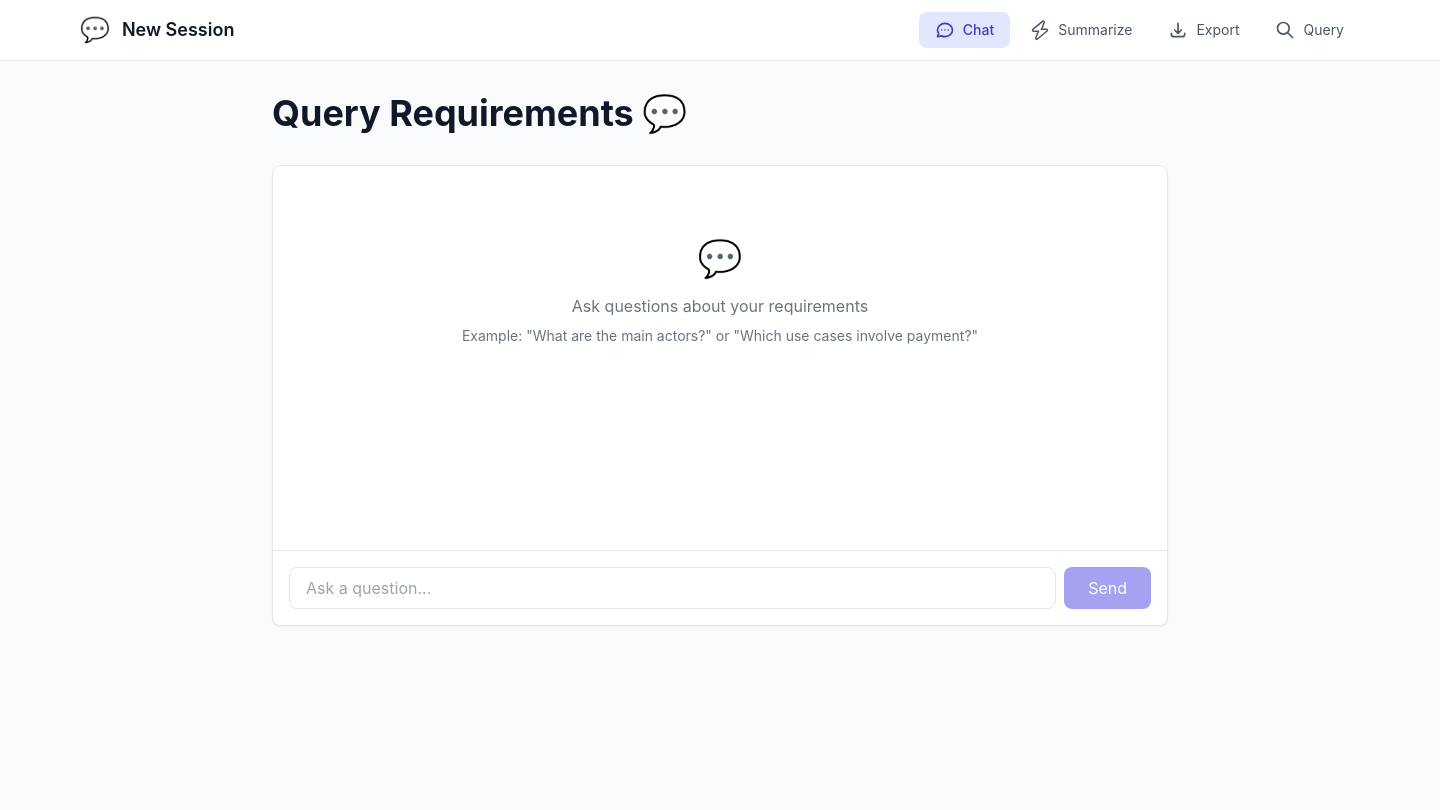
Test: Query Component › Conversation Display › displays user and assistant messages
In the field with placeholder "Ask a question...": x=673, y=588 left=289, top=567, right=1056, bottom=609, type "Test question"
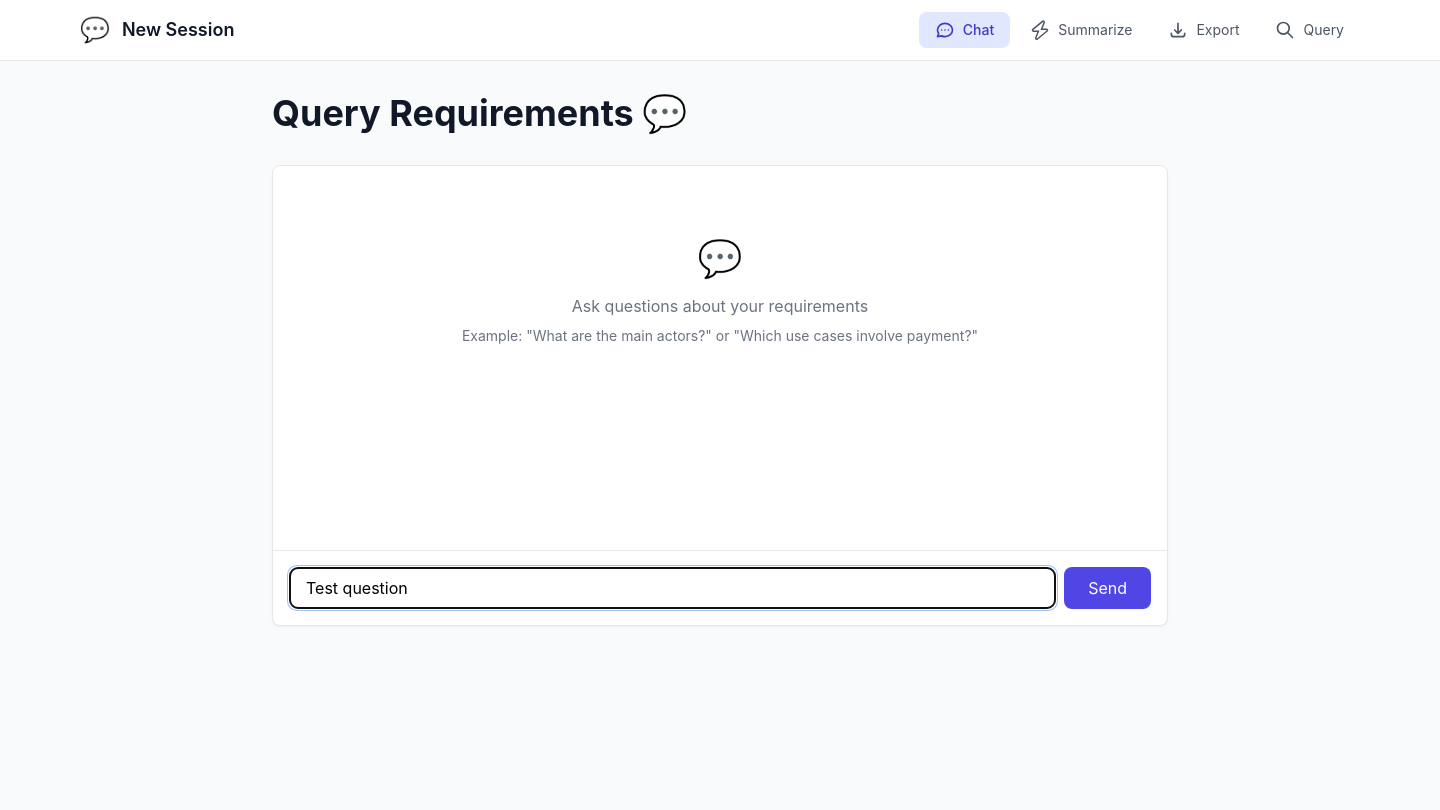
Click the button "Send": x=1108, y=588 left=1064, top=567, right=1151, bottom=609
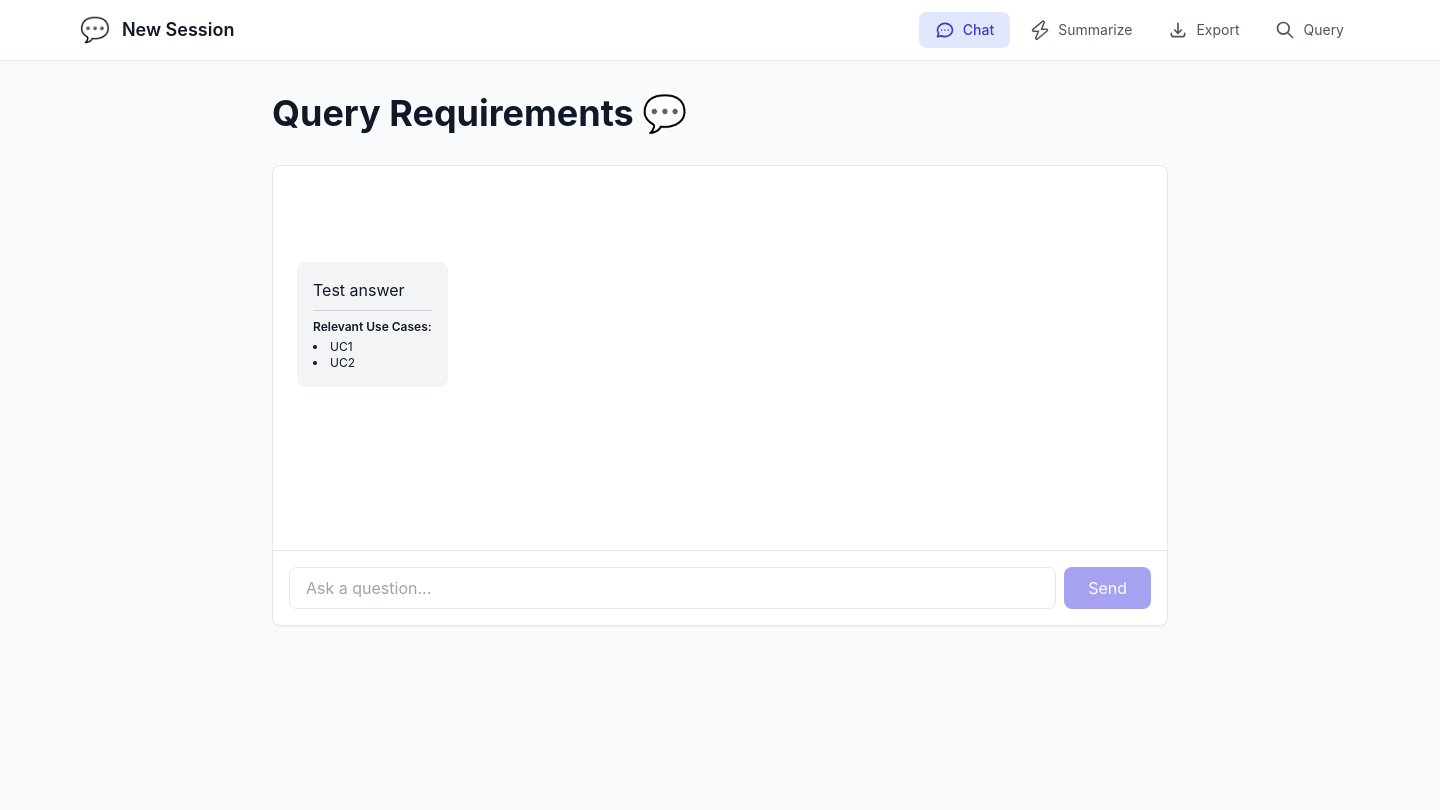
Now the text "Test answer" is shown, box left=313, top=280, right=405, bottom=300
Now the list item "UC1" is shown, box left=330, top=339, right=353, bottom=354
Now the list item "UC2" is shown, box left=330, top=355, right=355, bottom=370
